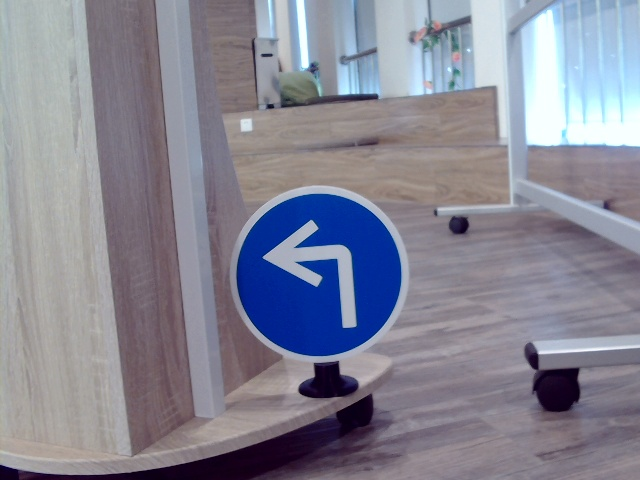turn_left: (264, 214, 360, 335)
